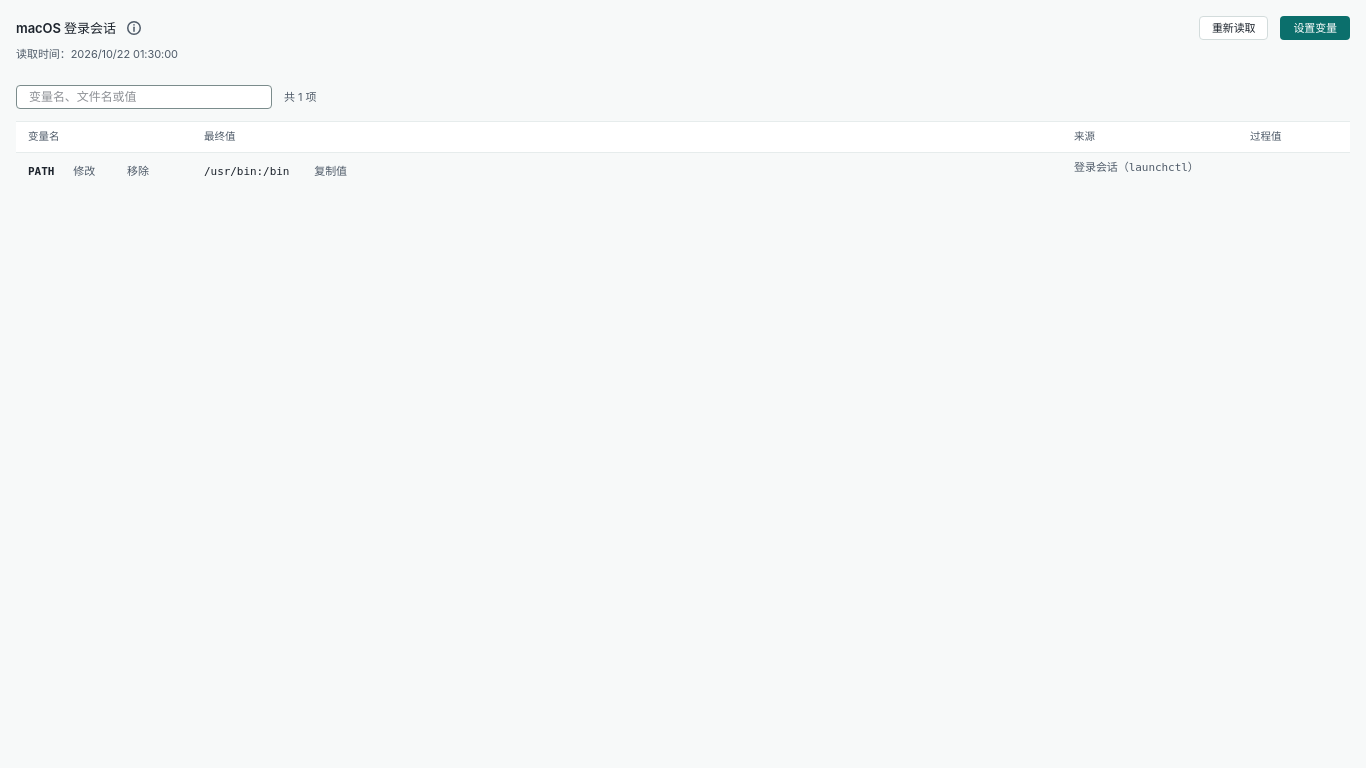
LaunchctlPage › replaces the list with the result of a change without a loading state
Check: the text "PATH" is shown, box [28,162,54,180]
Click the button "设置变量".
click(1315, 28)  # box [1280,16,1350,40]
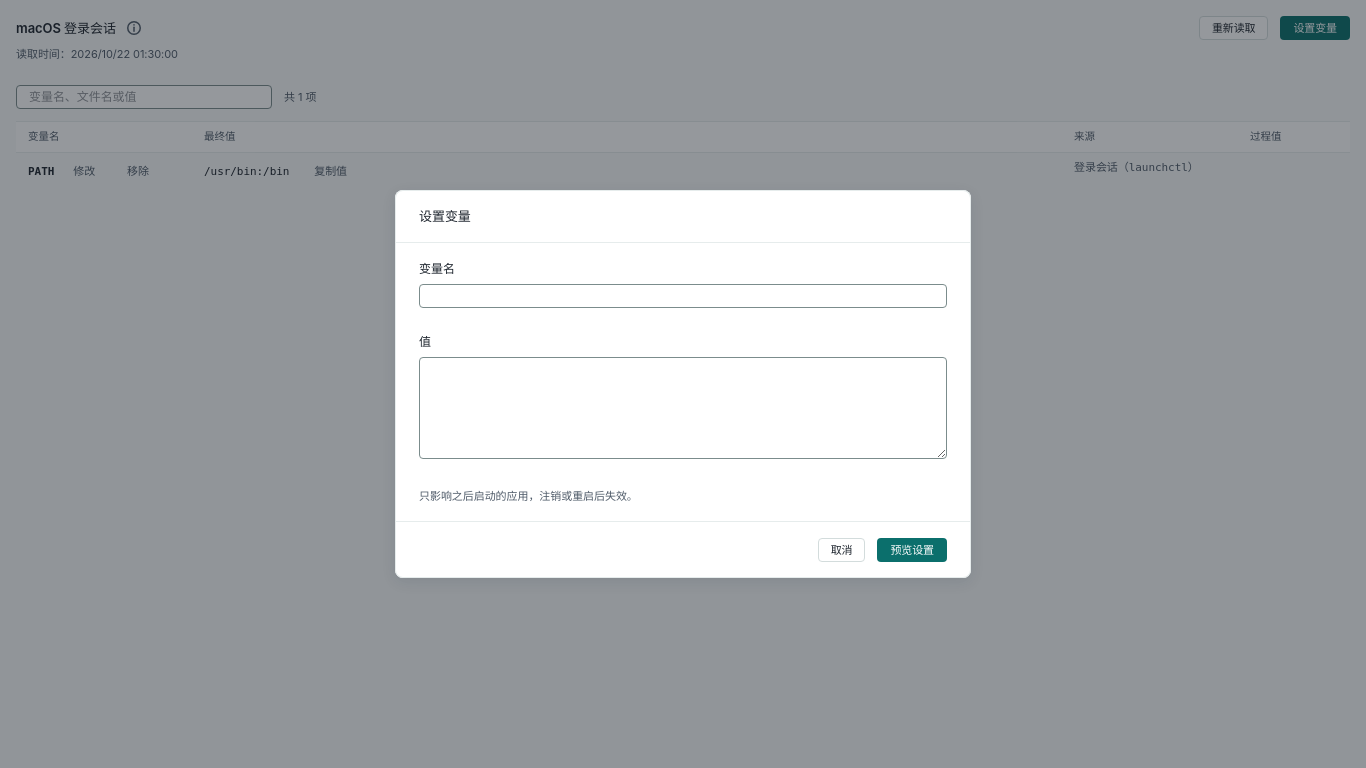
Type "EDITOR" into the field labelled "变量名".
click(683, 296); type("EDITOR")  # box [419,284,947,308]
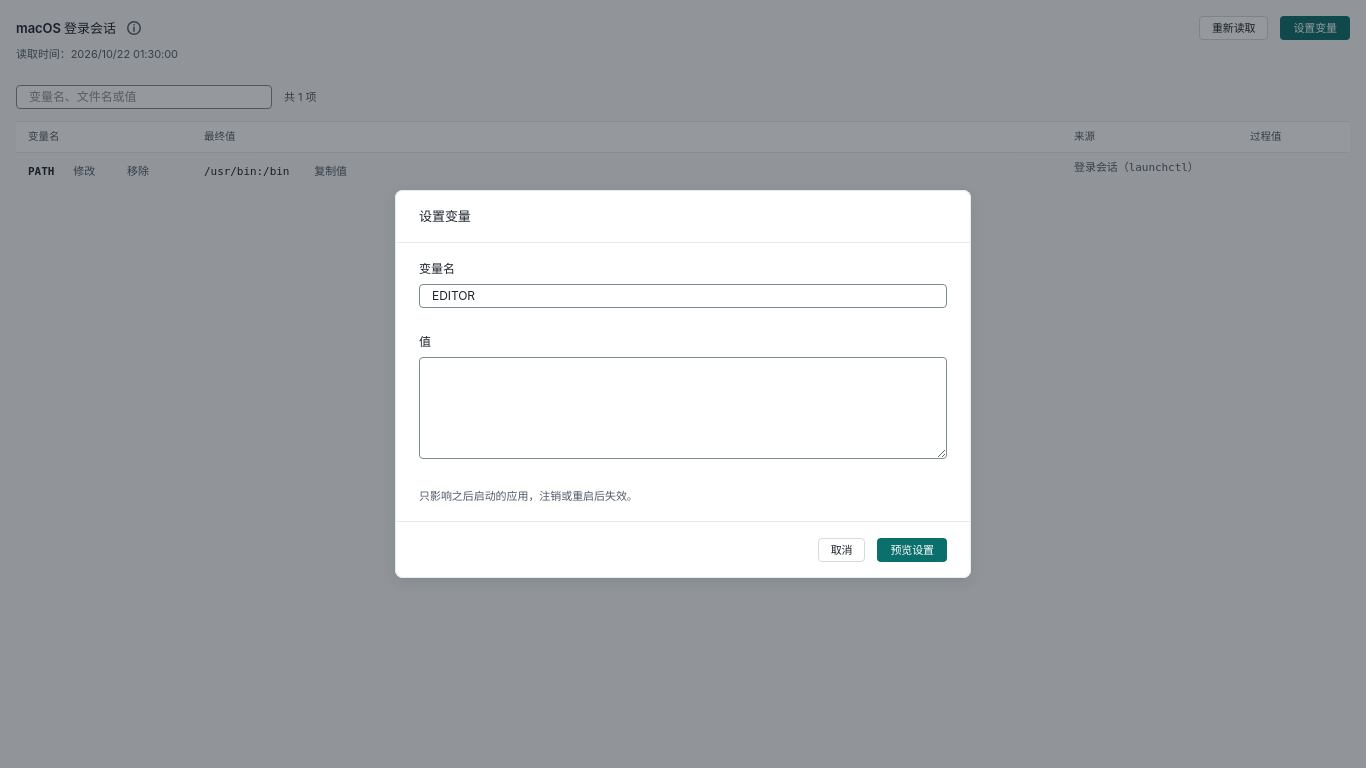
Type "vim" into the text box labelled "值".
click(683, 408); type("vim")  # box [419,357,947,459]
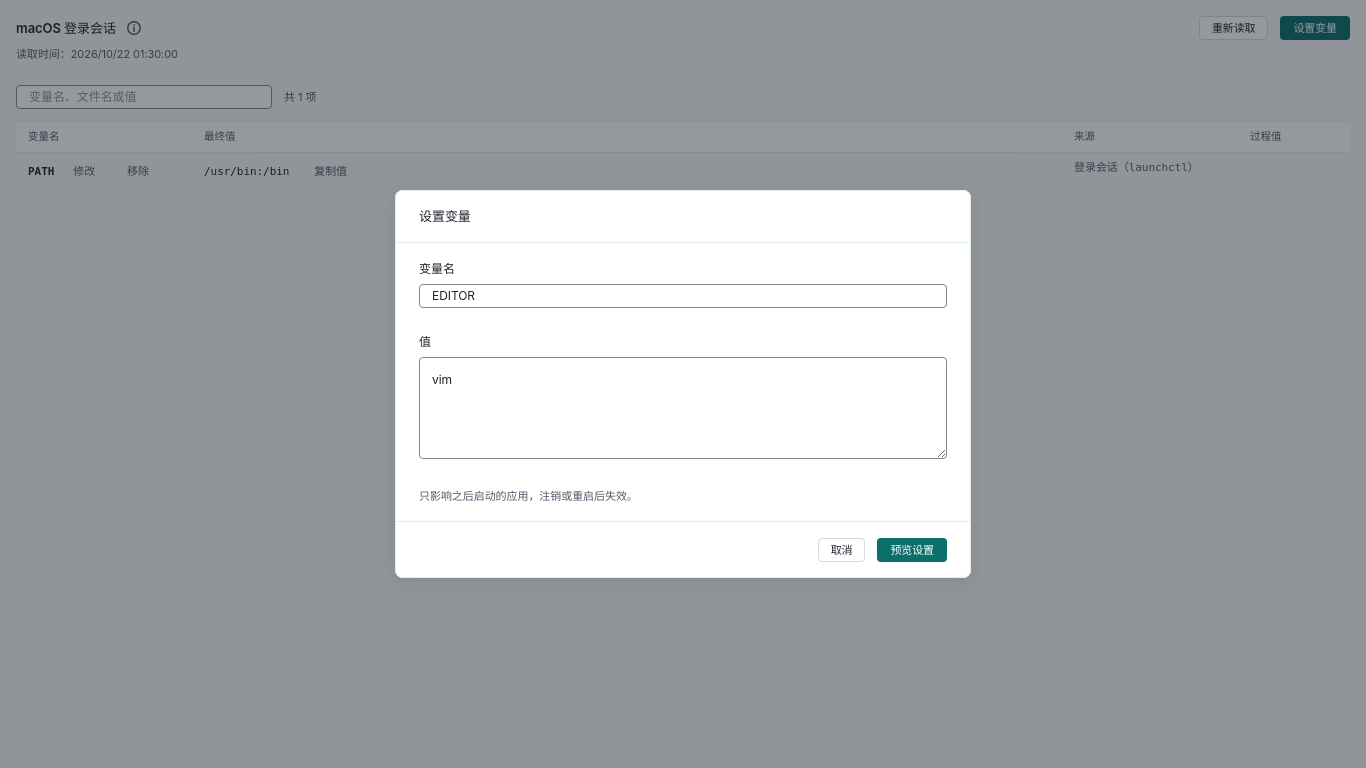
Click the button "预览设置".
click(912, 550)  # box [877,538,947,562]
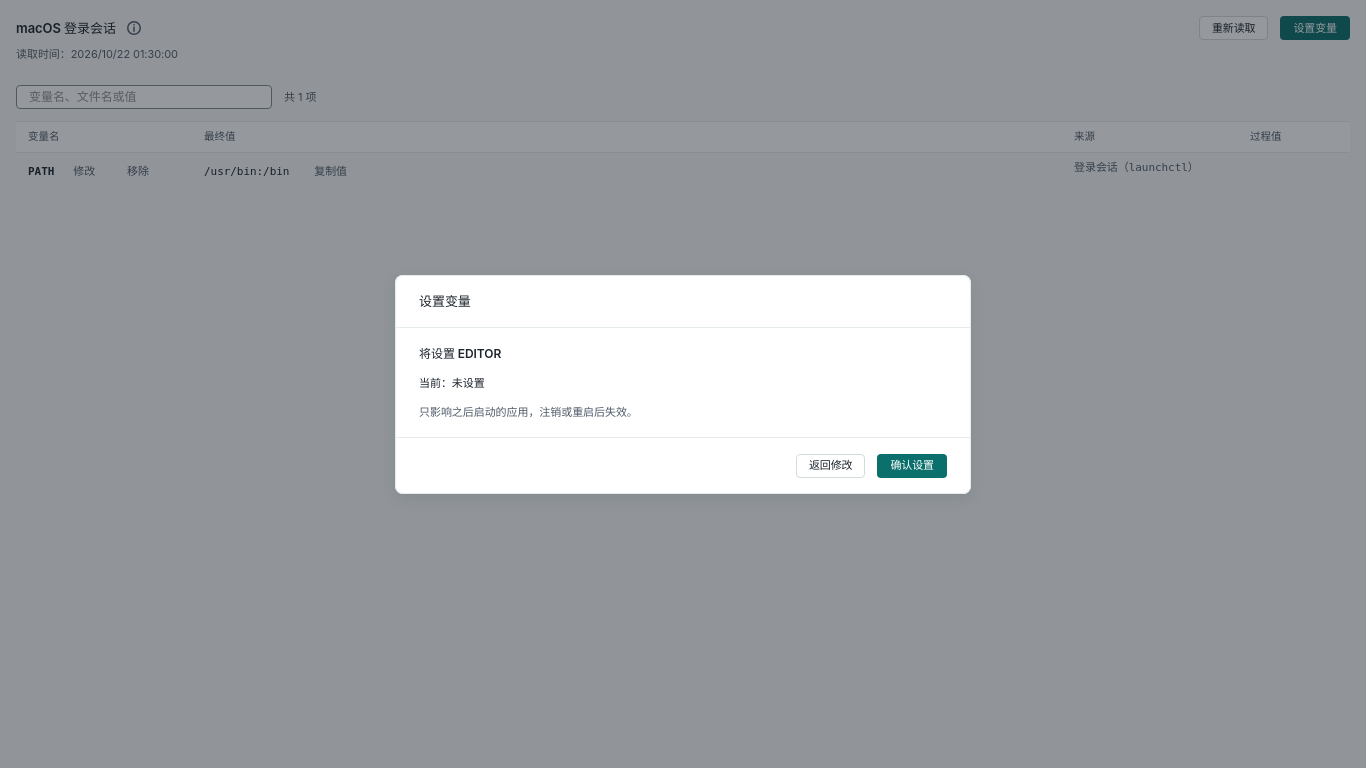
Click the button "确认设置".
click(912, 466)  # box [877,454,947,478]
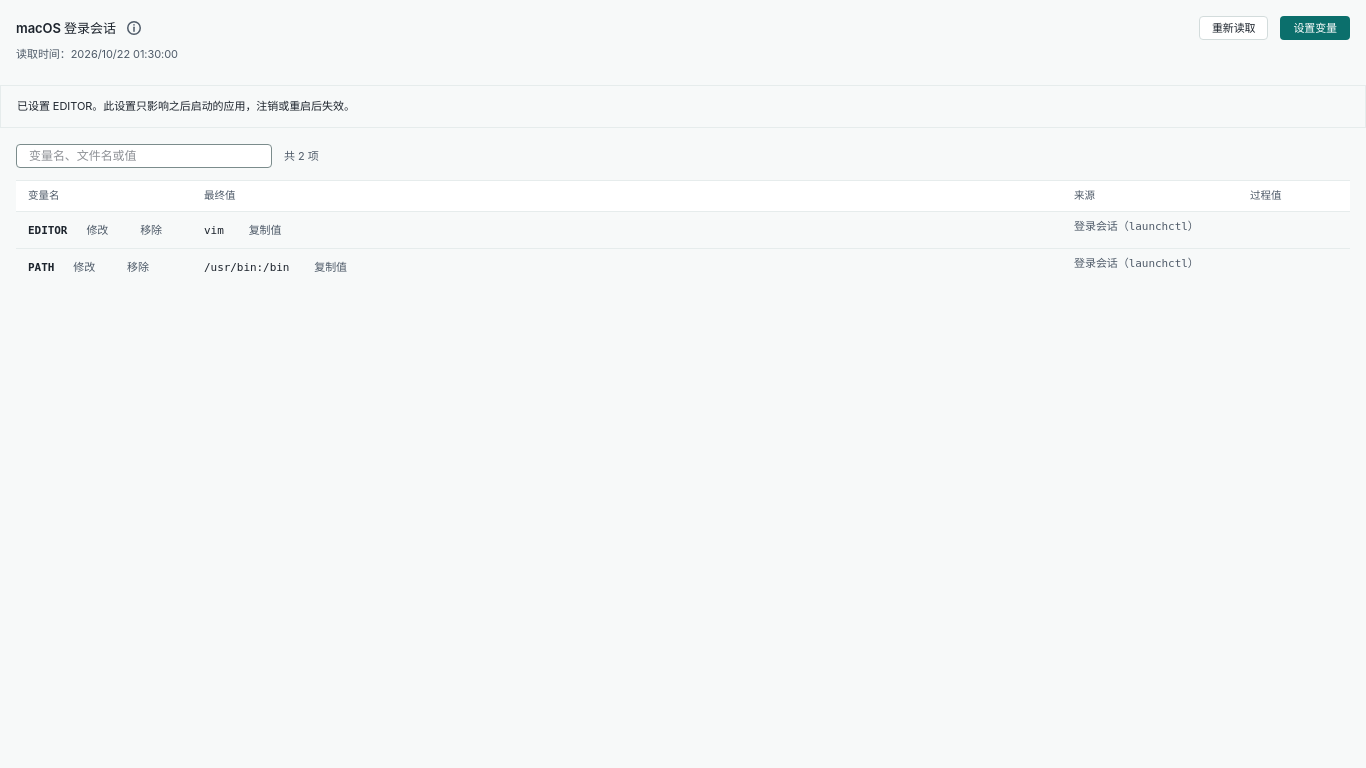
Check: the text "EDITOR" is shown, box [28,222,67,238]
Check: the text "已设置 EDITOR。此设置只影响之后启动的应用，注销或重启后失效。" is shown, box [0,85,1365,128]
